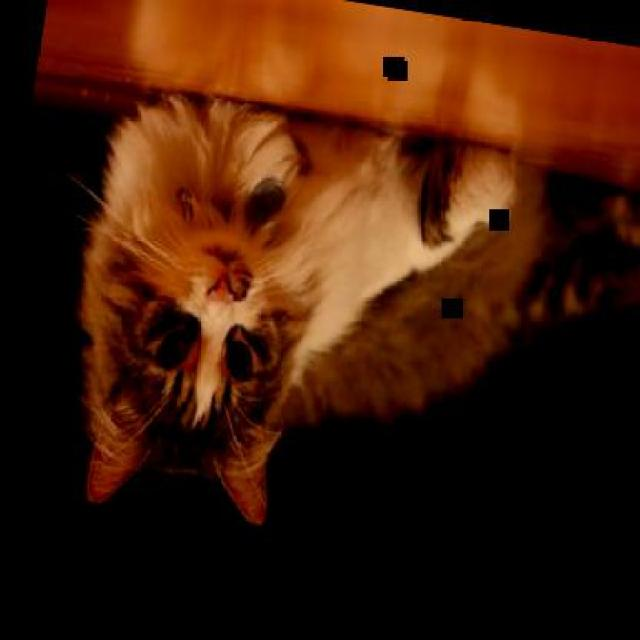cat: (54, 78, 638, 588)
